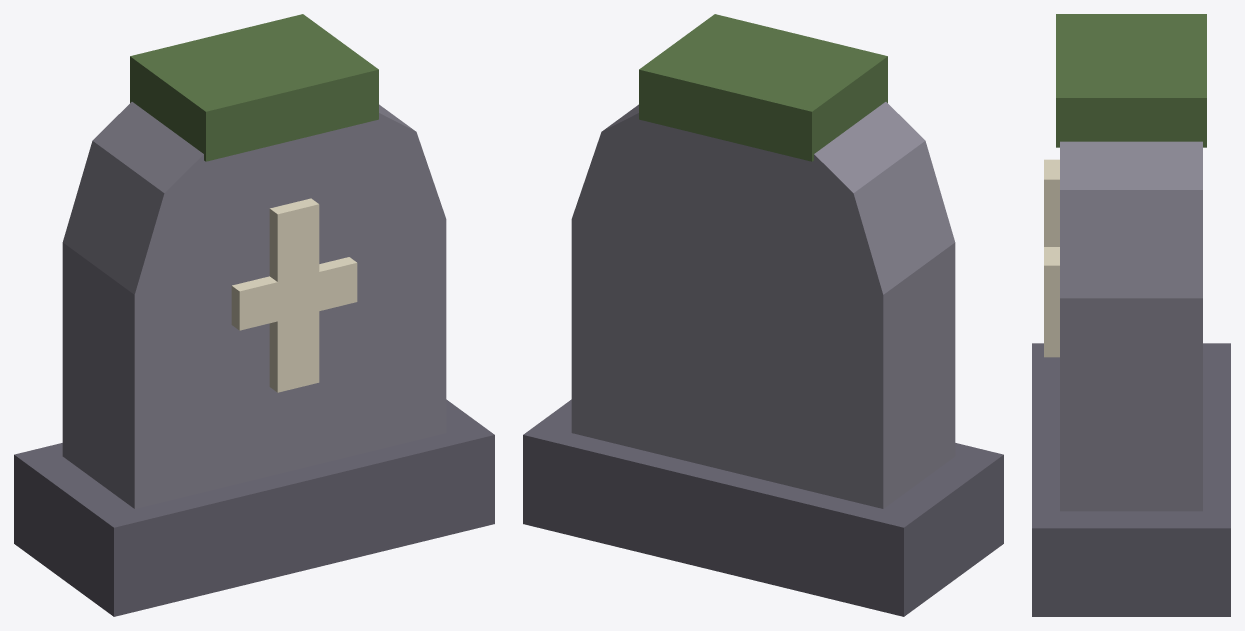
Rendered from env_r4_tombstone_round.glb.
3 renders of one model, left to right at view 1: azimuth 30°, elevation 25°; view 2: azimuth 150°, elevation 25°; view 3: azimuth 270°, elevation 25°, orthographic.
Parts seen in each view (by area): view 1: env_r4_tombstone_round; view 2: env_r4_tombstone_round; view 3: env_r4_tombstone_round.
Part boxes in pixels (box(x1,y1,x2,y2)): env_r4_tombstone_round: box(14, 14, 494, 616); env_r4_tombstone_round: box(523, 14, 1003, 616); env_r4_tombstone_round: box(1032, 14, 1230, 616).
Size of the model in its own units: 1.1 by 1.3 by 0.5.
1 material, 1 textured.
